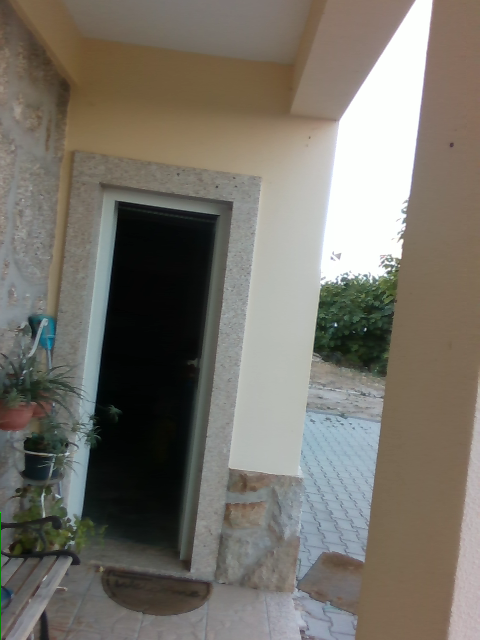open: (65, 180, 233, 567)
